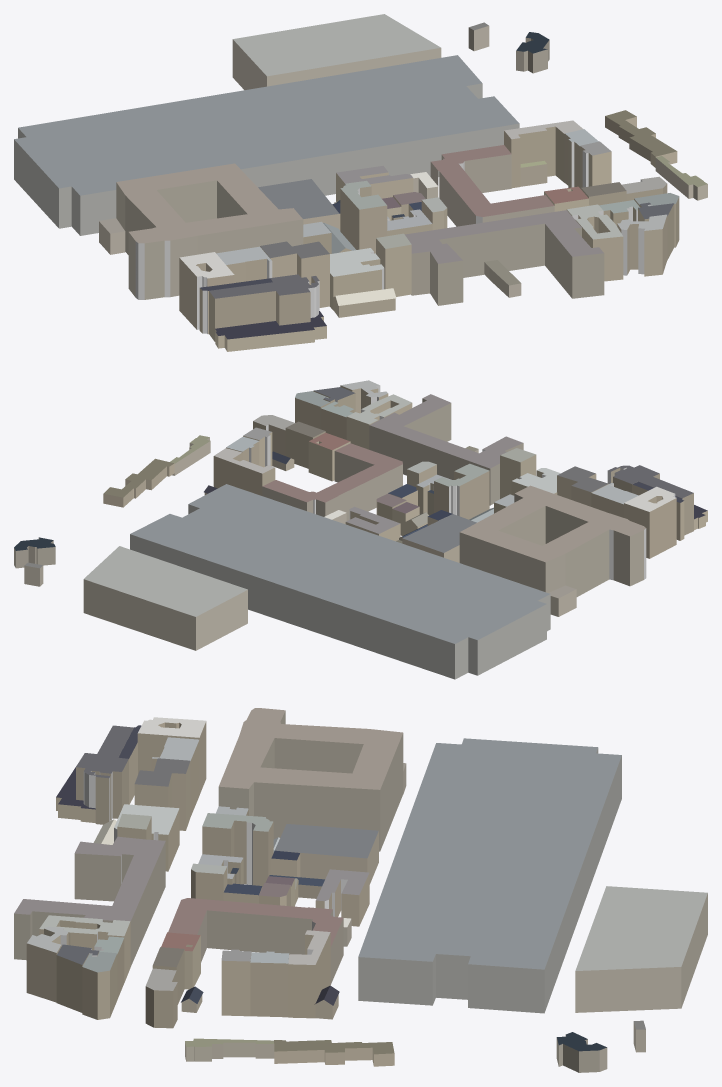
3 views of the same model, one above another, from view 1: azimuth 30°, elevation 25°; view 2: azimuth 150°, elevation 25°; view 3: azimuth 270°, elevation 25° (orthographic). The views are drawn at different scales.
Parts seen in each view (by area): view 1: tuile; view 2: tuile; view 3: tuile.
Boxes of the visible parts, x1,y1,x2,y2 form: tuile: (14,14,707,351); tuile: (14,380,707,679); tuile: (14,708,707,1072).
Bounding box in the file's own units: 265 × 28.65 × 262.
